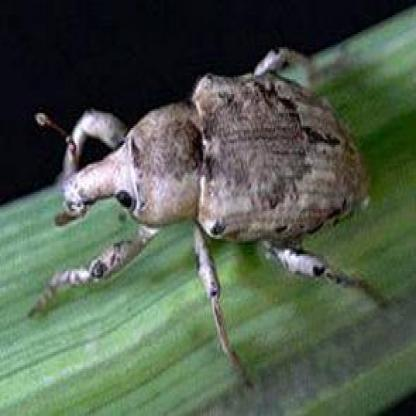rice-bug: (41, 46, 366, 344)
